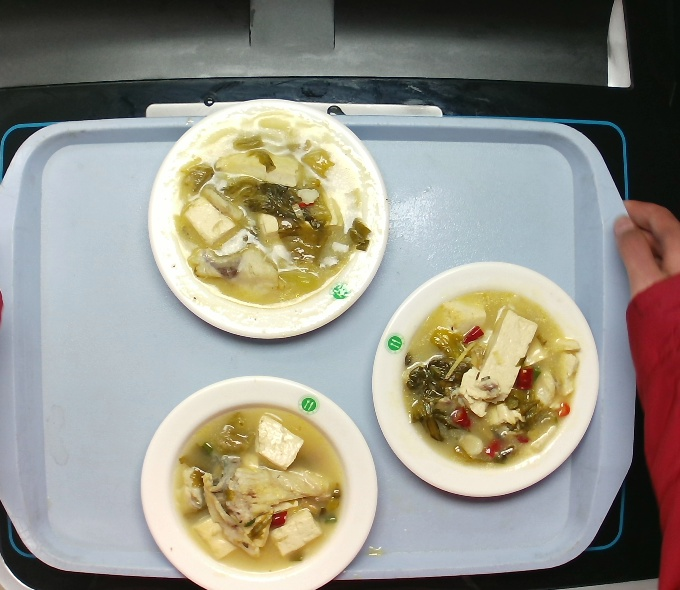wcq-SuanCaiDouFuYu: (160, 111, 379, 311), (395, 285, 581, 471), (168, 407, 349, 568)
